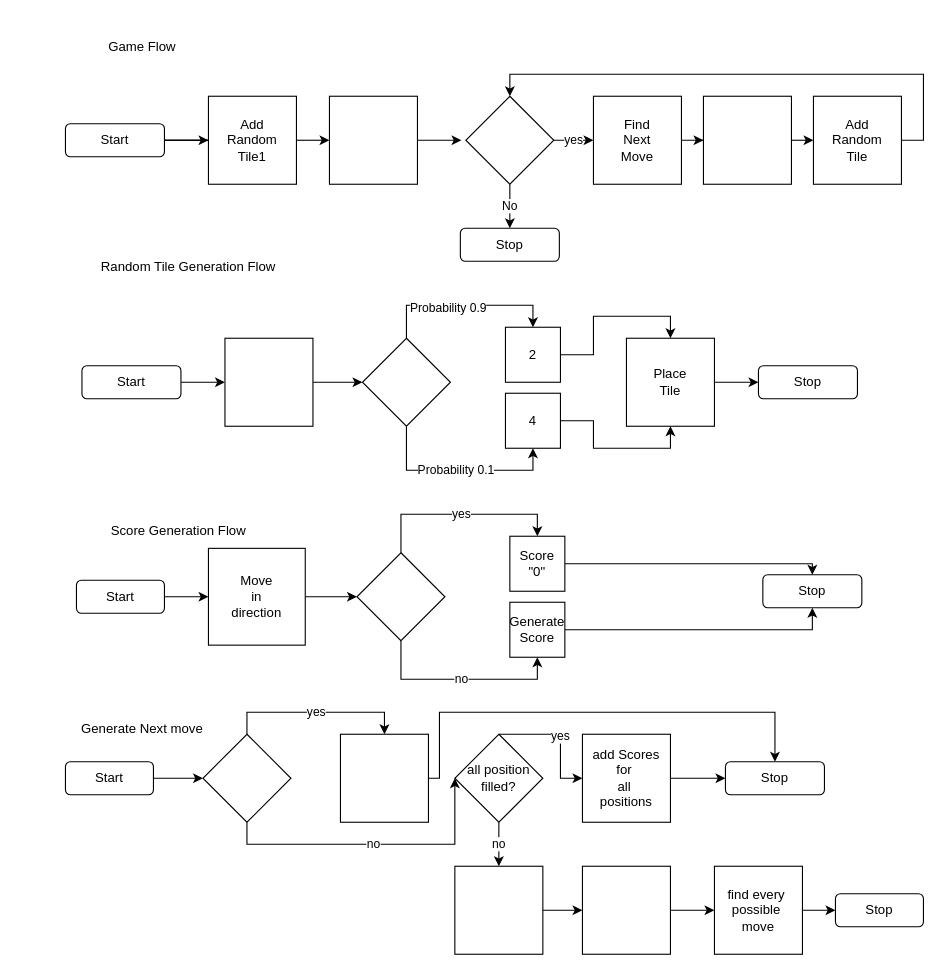
Image size: 952x974. Some labels were removed from this diagram. Here are the shapes that lost their labels. From the top down, the box of each, then its label:
(328, 95, 417, 184): Add Random Tile2
(465, 95, 554, 184): Possiible Move?
(702, 95, 791, 184): Apply Next Move
(224, 337, 313, 426): Find Empty Cell
(361, 337, 450, 426): Generate Tile
(356, 552, 445, 641): hasChanged
(202, 733, 291, 822): canMove
(339, 733, 428, 822): Generate Score for Final Board
(454, 865, 543, 954): find next empty position
(581, 865, 670, 954): follow Random Tile generation Flow
